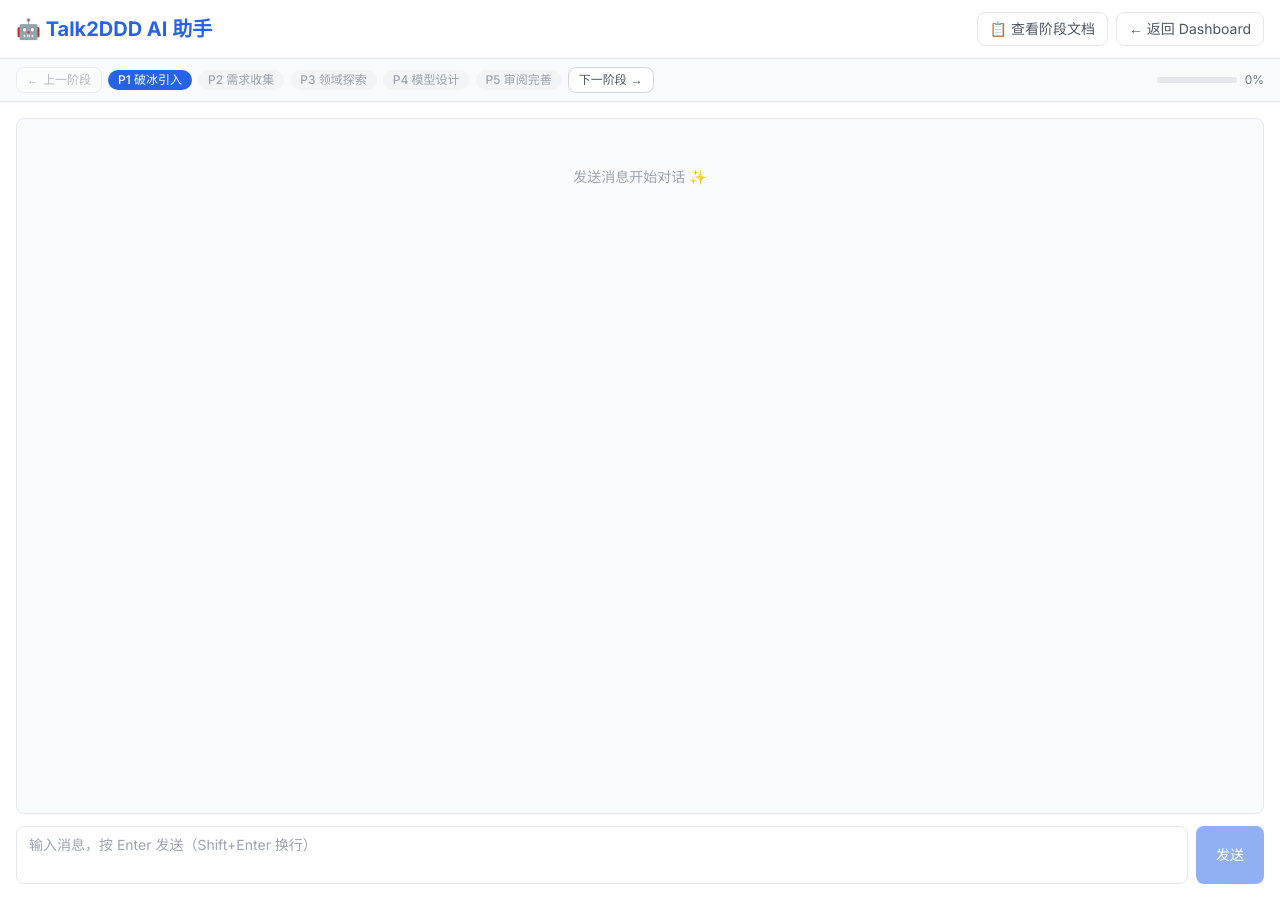
Test case: ChatPage › shows an error message when the task fails during polling
Type "Hello" into the text box named "message input" at (602, 855), box x1=16 y1=826 x2=1188 y2=884
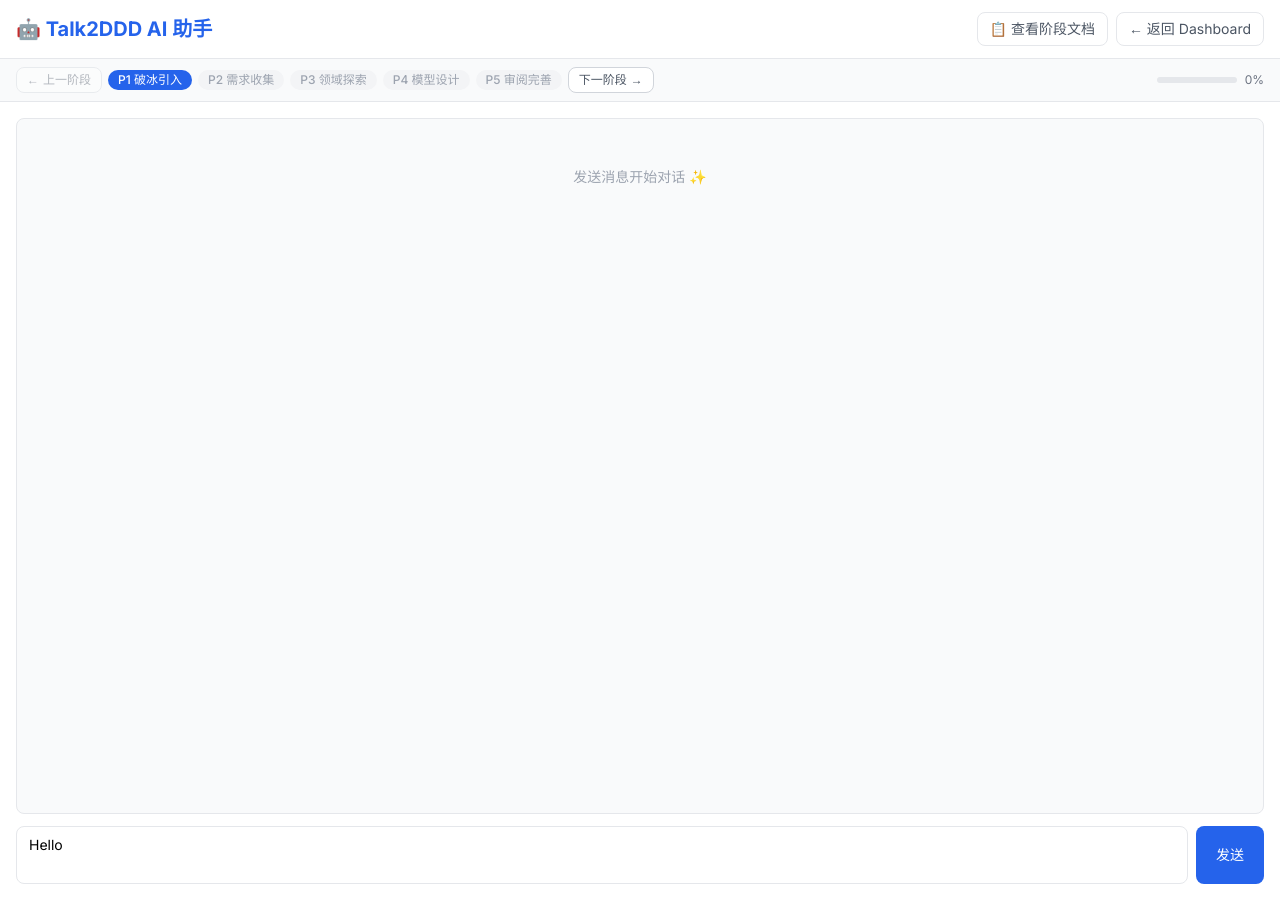
Click the button with aria-label "send message" at (1230, 855), box x1=1196 y1=826 x2=1264 y2=884
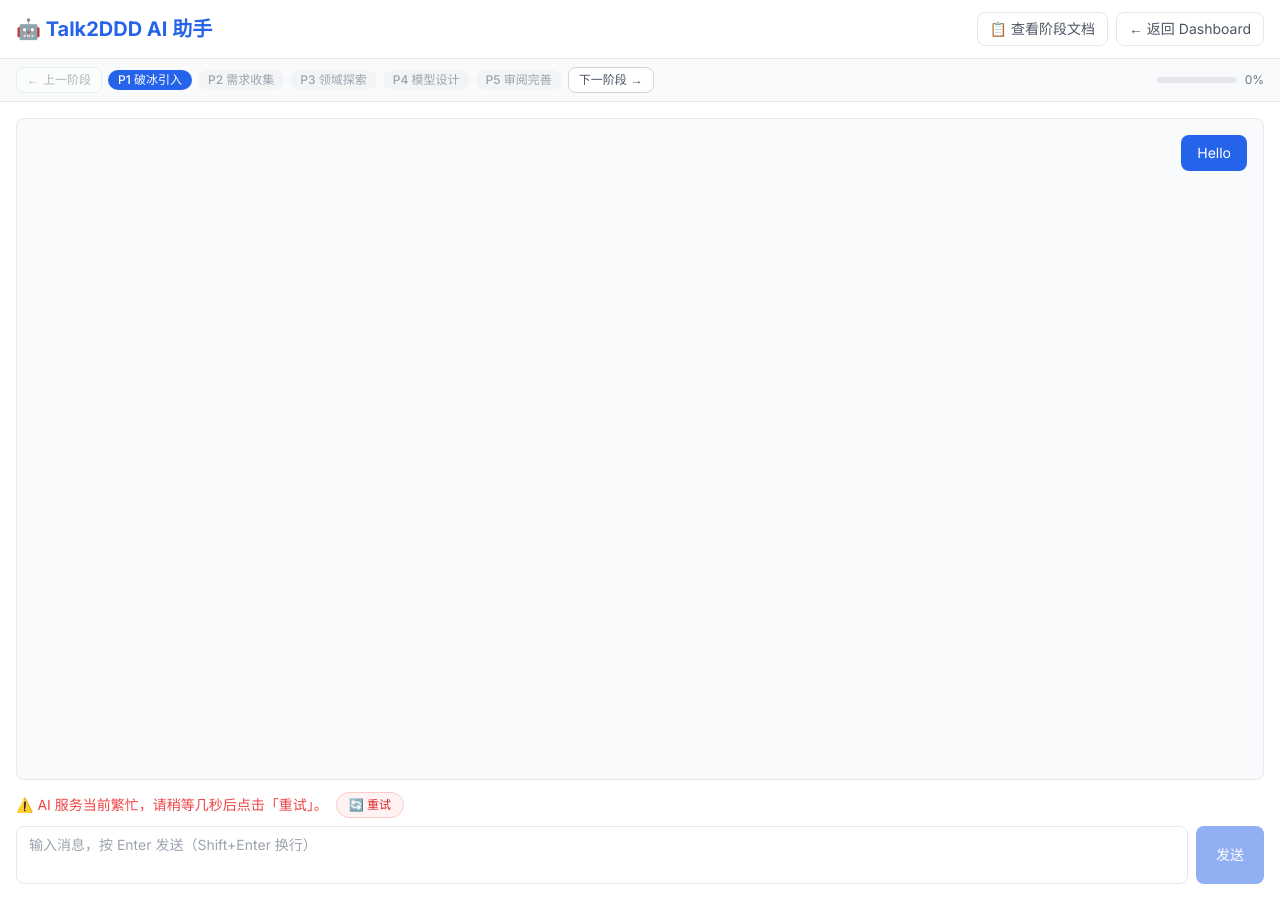
expect the message shows "AI 服务当前繁忙": met, box x1=37 y1=796 x2=328 y2=813
